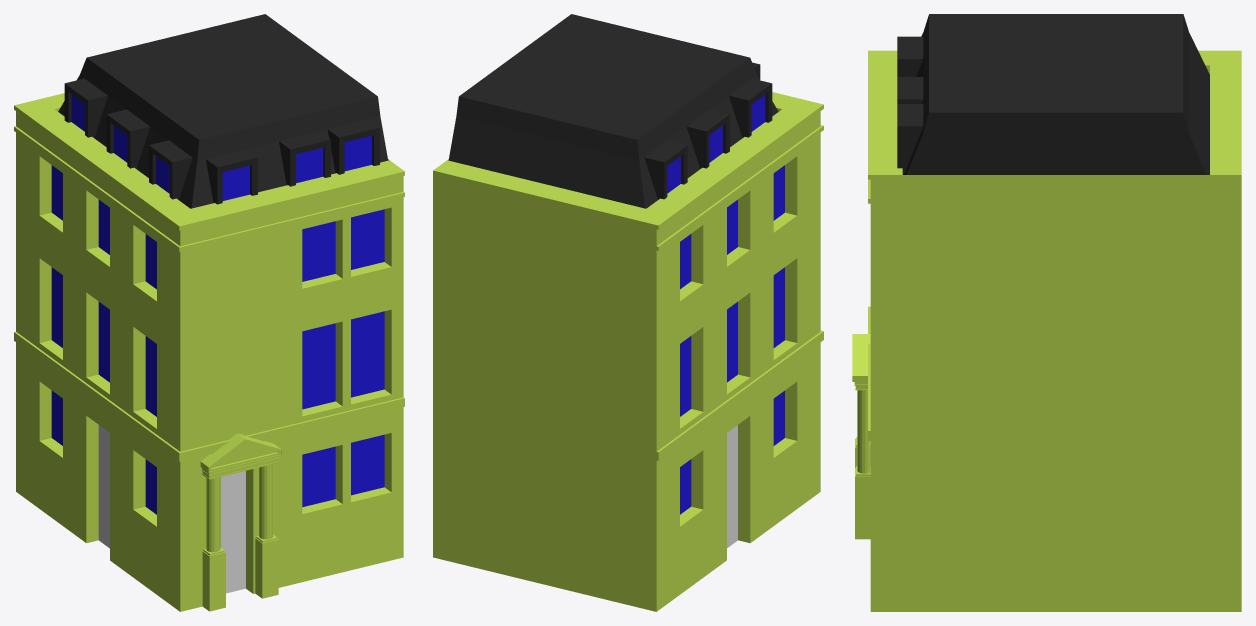
File: BathBuilding.fbx
3 renders of one model, left to right at view 1: azimuth 30°, elevation 25°; view 2: azimuth 150°, elevation 25°; view 3: azimuth 270°, elevation 25°, orthographic. The views are drawn at different scales.
Visible parts, largest first — view 1: Comlete; view 2: Comlete; view 3: Comlete.
Boxes of the visible parts, x1=… form: Comlete: x1=14, y1=14, x2=404, y2=611; Comlete: x1=433, y1=14, x2=823, y2=611; Comlete: x1=852, y1=14, x2=1241, y2=611.
Size of the model in its own units: 555 by 1040 by 735.
